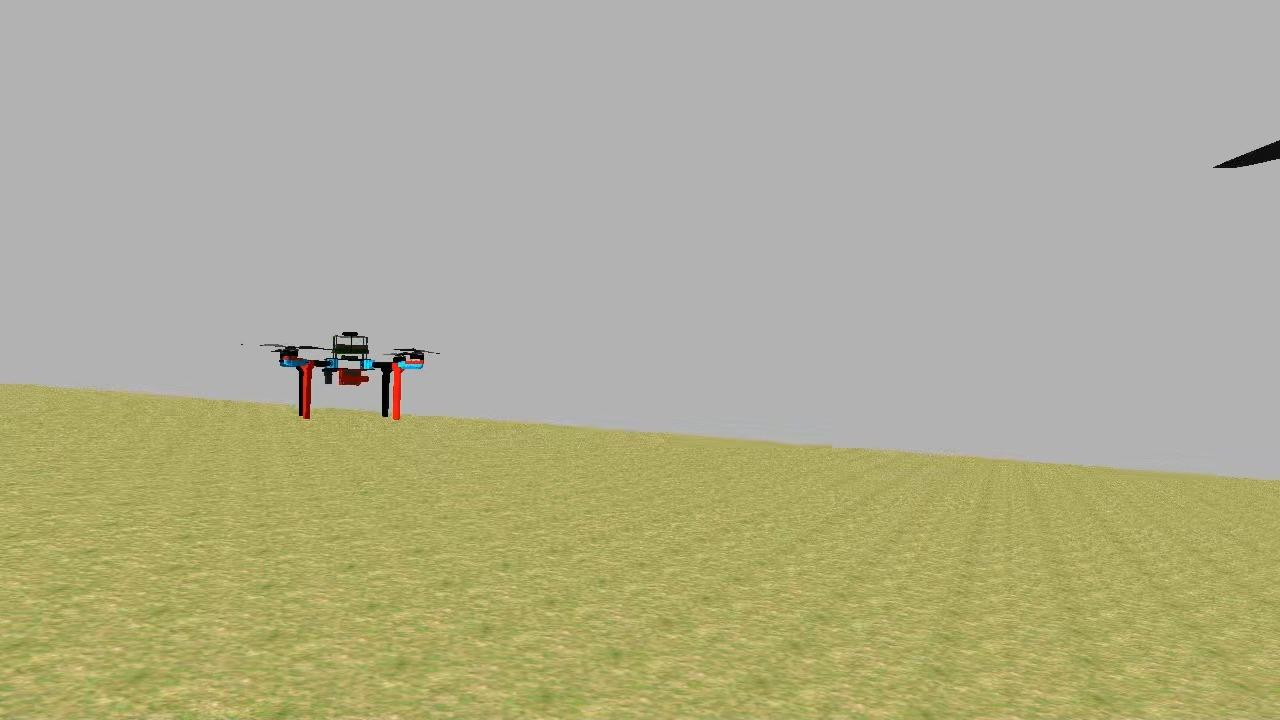UAV: (268, 326, 432, 424)
